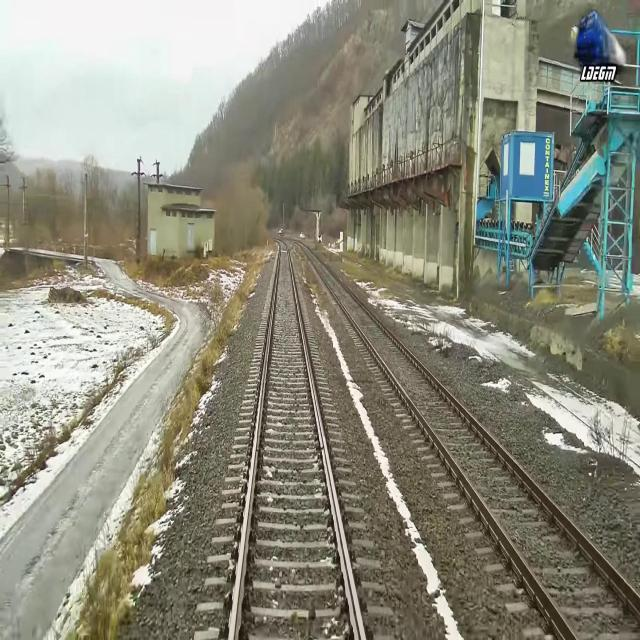rail-track: (294, 240, 640, 639), (233, 238, 360, 639)
